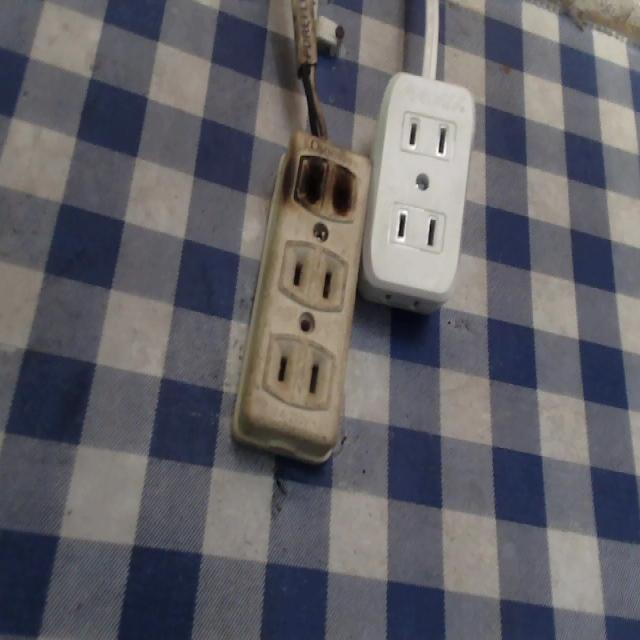-: (285, 140, 363, 227)
